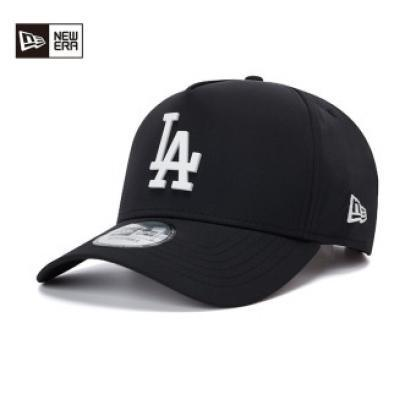cap: (22, 69, 384, 308)
